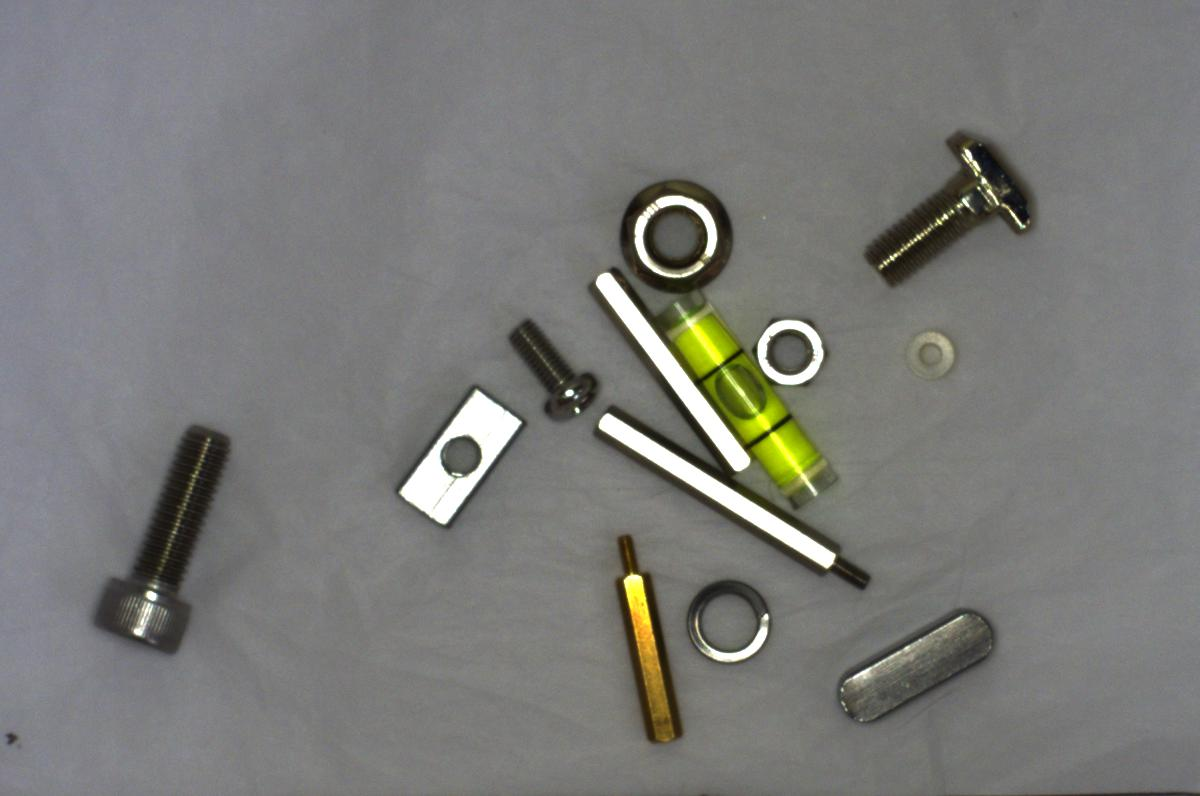Double hexagonal column: (579, 258, 762, 482)
Flange nut: (620, 172, 735, 292)
Hexagon nut: (747, 305, 828, 387)
Hexagon pillar: (597, 530, 692, 753)
Hexagon screw: (73, 408, 239, 662)
Hexagonal steel column: (588, 408, 876, 595)
Horizontal bubble: (652, 290, 851, 510)
Keybar: (825, 595, 1006, 730)
Plastic cushion pillar: (897, 327, 958, 385)
Rectangular nut: (398, 381, 523, 535)
Round head screw: (508, 312, 600, 430)
Spring washer: (678, 569, 783, 677)
T-shaped screw: (861, 118, 1050, 289)
